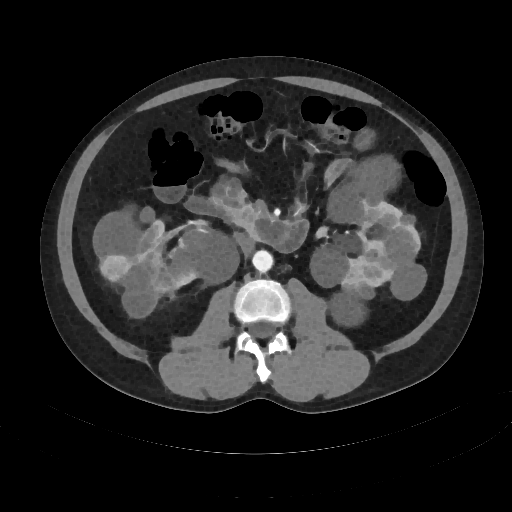Lesion: (94, 252, 134, 288)
